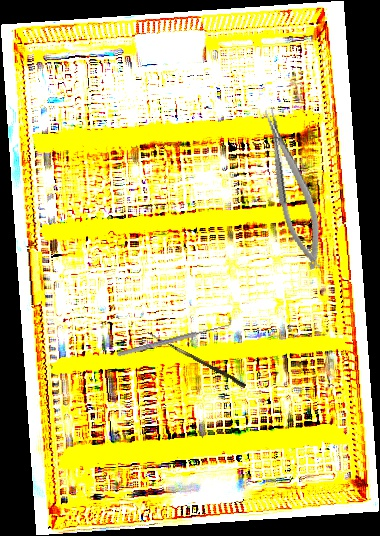Hook Surgical: (144, 331, 248, 389), (114, 316, 235, 359)
Needle Holder: (256, 103, 331, 275)
